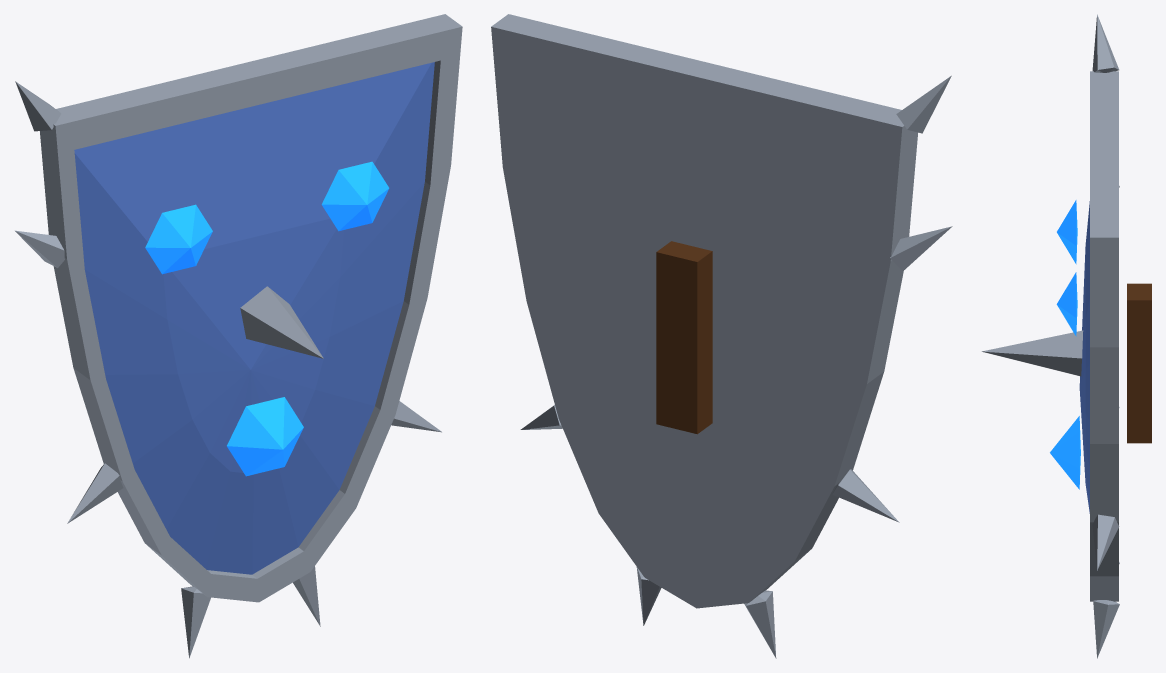
Rendered from shield_spiked_rare.glb.
The picture shows the model from 3 angles, left to right: view 1: azimuth 30°, elevation 25°; view 2: azimuth 150°, elevation 25°; view 3: azimuth 270°, elevation 25°; orthographic projection. The views are drawn at different scales.
Parts seen in each view (by area): view 1: shield_spiked_rare; view 2: shield_spiked_rare; view 3: shield_spiked_rare.
Boxes of the visible parts, left/top/right/bottom form: shield_spiked_rare: left=15, top=14, right=462, bottom=658; shield_spiked_rare: left=491, top=14, right=952, bottom=658; shield_spiked_rare: left=981, top=14, right=1151, bottom=658.
Size of the model in its own units: 65.45 by 87.35 by 26.
